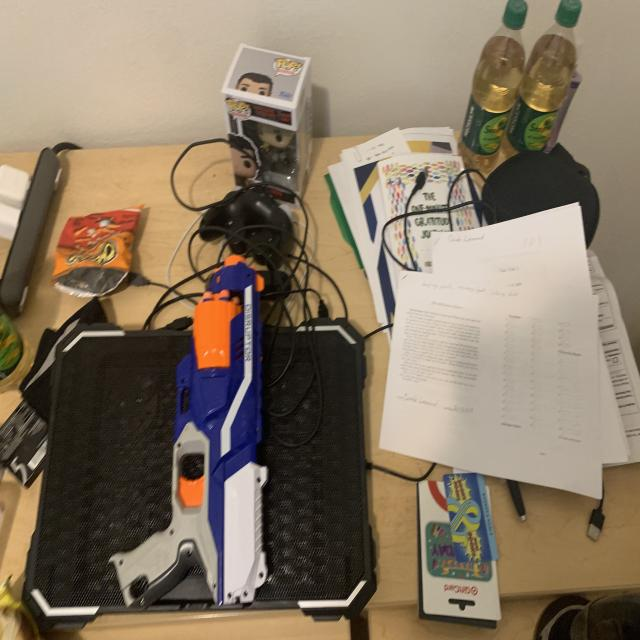nerf-maverik: (102, 233, 278, 623)
